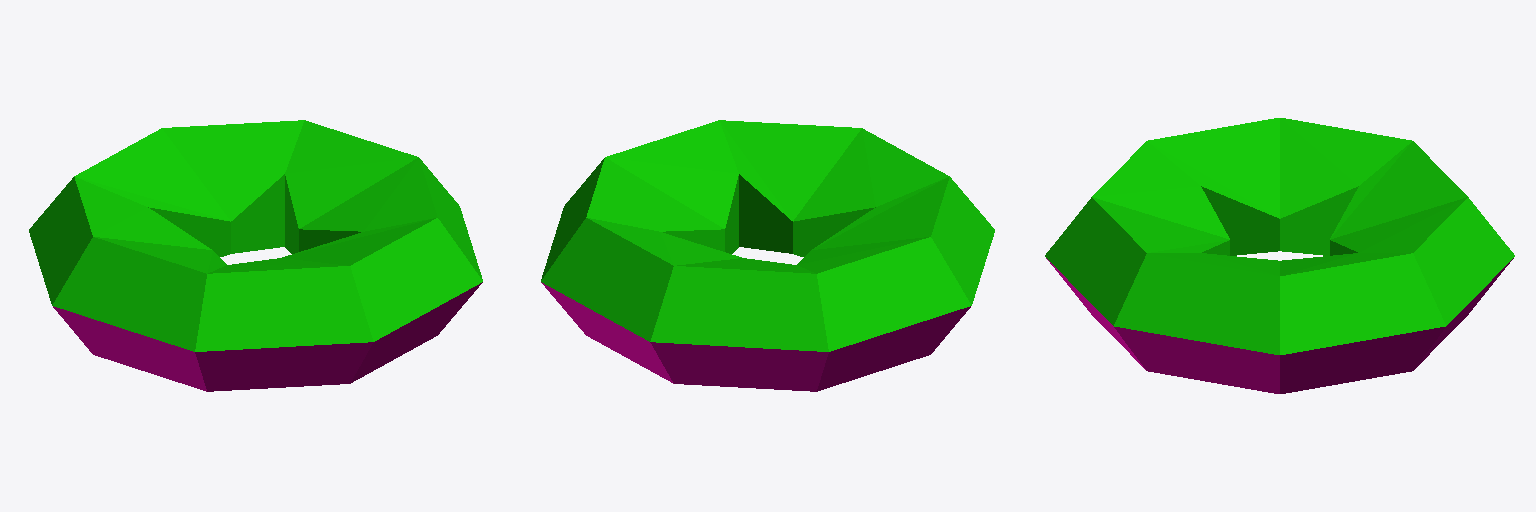
The model's file is weirddonut.obj.
The picture shows the model from 3 angles: view 1: azimuth 30°, elevation 25°; view 2: azimuth 150°, elevation 25°; view 3: azimuth 270°, elevation 25°; orthographic projection.
Visible parts, largest first — view 1: Torus; view 2: Torus; view 3: Torus.
Part boxes in pixels (left/top/right/bottom): Torus: left=29, top=120, right=482, bottom=391; Torus: left=541, top=120, right=994, bottom=391; Torus: left=1045, top=118, right=1514, bottom=393.
Size of the model in its own units: 2.82 by 0.7799 by 2.82.